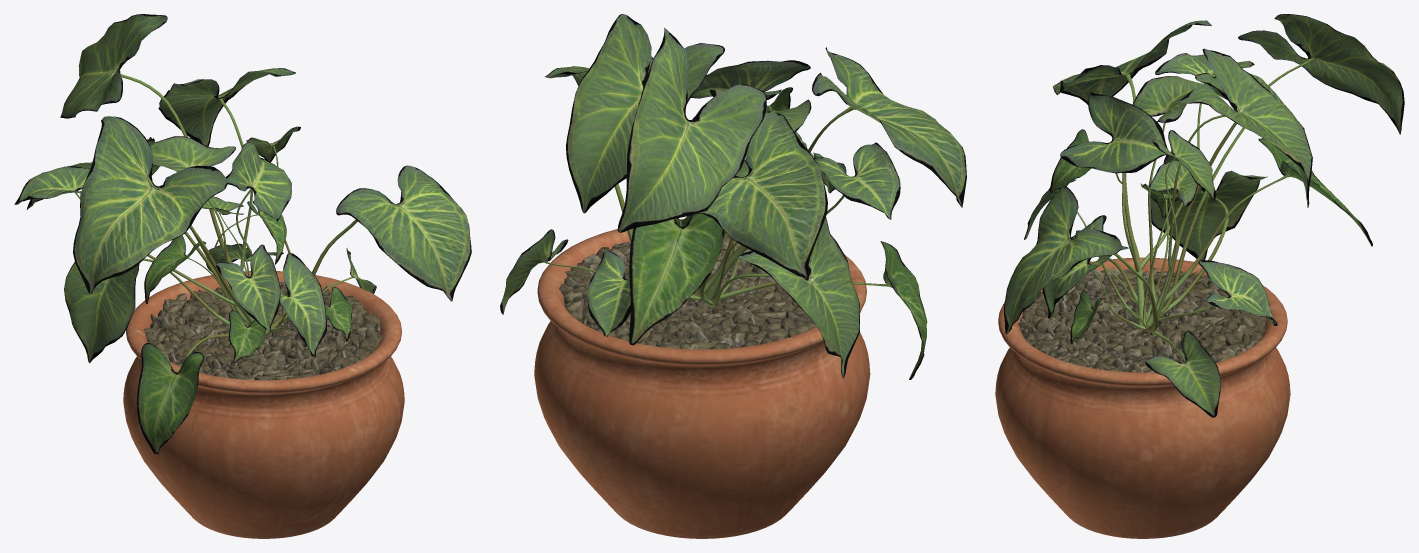
The model's file is potted_plant_02.glb.
3 renders of one model, left to right at view 1: azimuth 30°, elevation 25°; view 2: azimuth 150°, elevation 25°; view 3: azimuth 270°, elevation 25°, orthographic. The views are drawn at different scales.
Visible parts, largest first — view 1: potted_plant_02_leaves, potted_plant_02_pot, potted_plant_02_dirt; view 2: potted_plant_02_leaves, potted_plant_02_pot, potted_plant_02_dirt; view 3: potted_plant_02_leaves, potted_plant_02_pot, potted_plant_02_dirt.
Boxes of the visible parts, box(x1,y1,x2,y2) form: potted_plant_02_leaves: box(14, 14, 471, 454); potted_plant_02_pot: box(123, 271, 404, 538); potted_plant_02_dirt: box(143, 282, 383, 380); potted_plant_02_leaves: box(500, 14, 966, 379); potted_plant_02_pot: box(534, 219, 870, 538); potted_plant_02_dirt: box(559, 234, 816, 349); potted_plant_02_leaves: box(1004, 14, 1404, 417); potted_plant_02_pot: box(995, 257, 1290, 538); potted_plant_02_dirt: box(1018, 267, 1266, 372).
Bounding box in the file's own units: 0.7012 × 0.8412 × 0.6574.
Materials: 2 (2 with a texture image).
